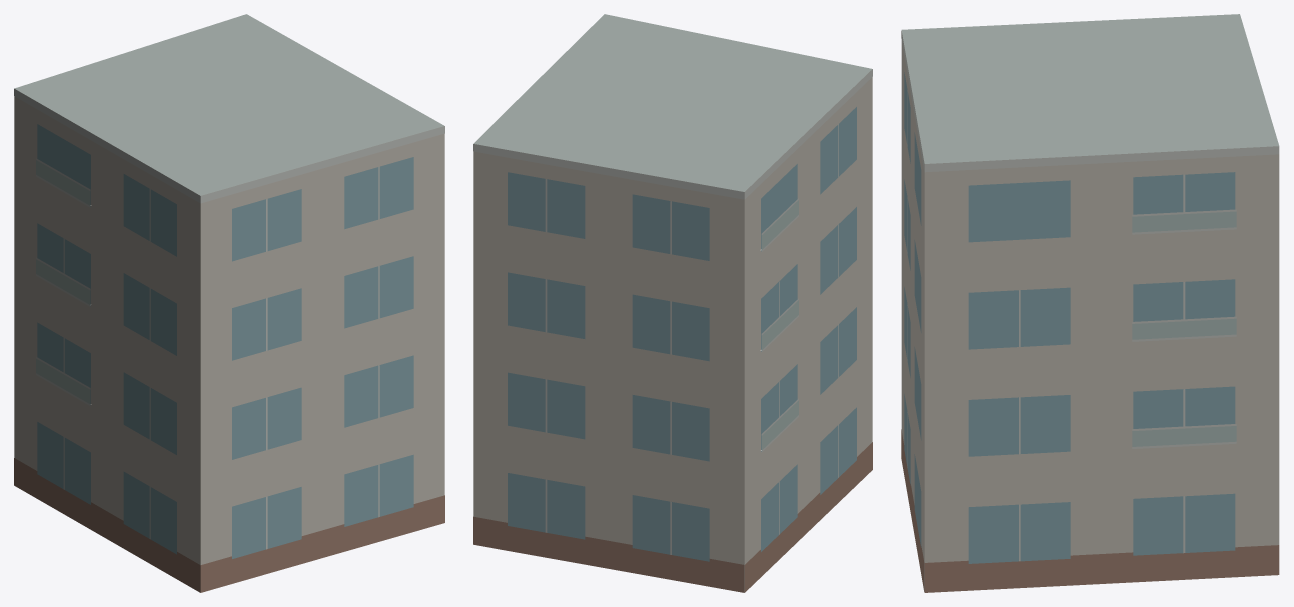
File: survey-upis-32605944.glb
3 renders of one model, left to right at view 1: azimuth 30°, elevation 25°; view 2: azimuth 150°, elevation 25°; view 3: azimuth 270°, elevation 25°, orthographic. The views are drawn at different scales.
Parts seen in each view (by area): view 1: survey-upis-32605944.tmp; view 2: survey-upis-32605944.tmp; view 3: survey-upis-32605944.tmp.
Part boxes in pixels (x1,y1,x2,y2): survey-upis-32605944.tmp: [14, 14, 444, 592]; survey-upis-32605944.tmp: [473, 14, 872, 592]; survey-upis-32605944.tmp: [901, 14, 1279, 592].
Bounding box in the file's own units: 9.61 × 12.8 × 10.23.
